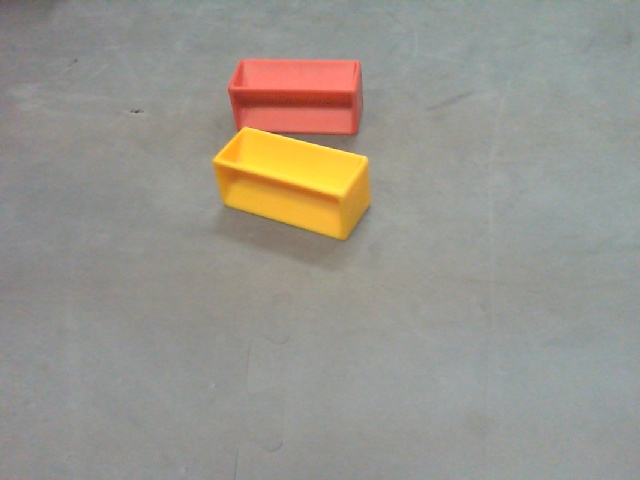RedSample: (229, 55, 365, 136)
YellowSample: (212, 129, 368, 240)
